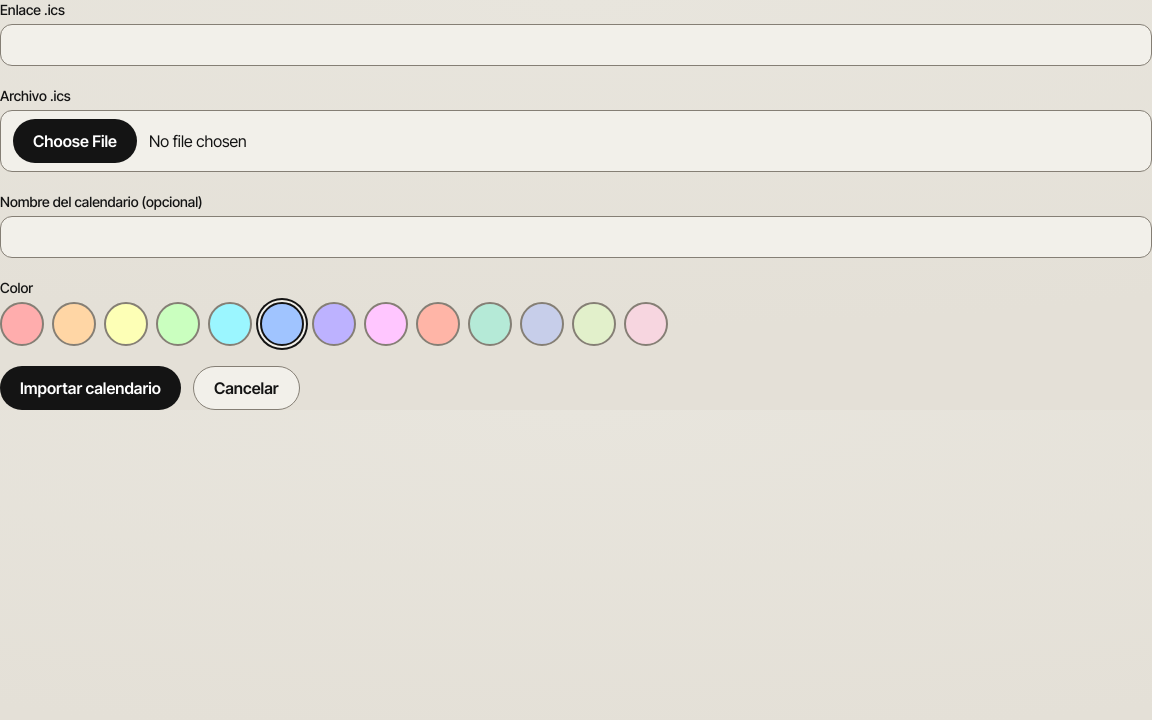
it: ImportForm errors › shows the source error next to the link field
Click the button "Importar calendario": (90, 388) left=0, top=366, right=181, bottom=410
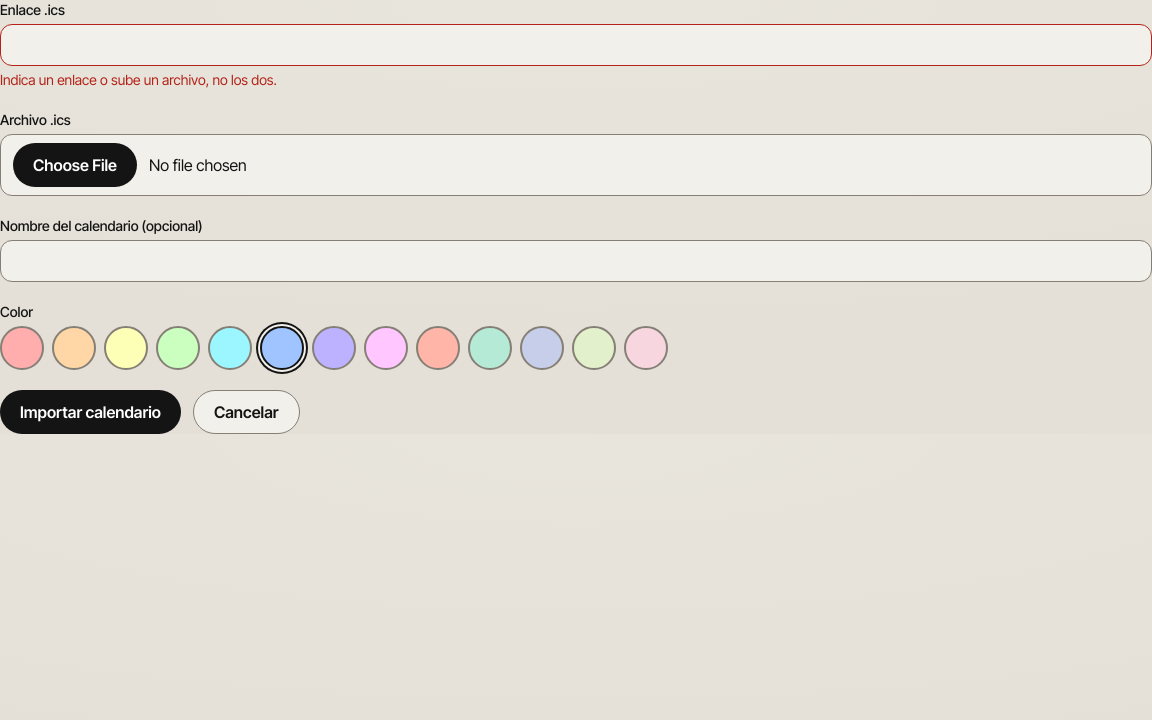
Expected: the text "Indica un enlace o sube un archivo, no los dos." is shown, left=0, top=71, right=277, bottom=88
